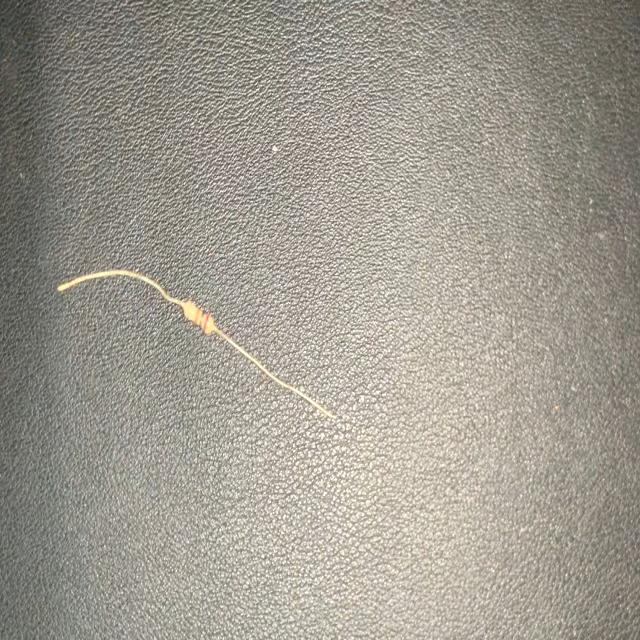resistor: (54, 257, 342, 424)
